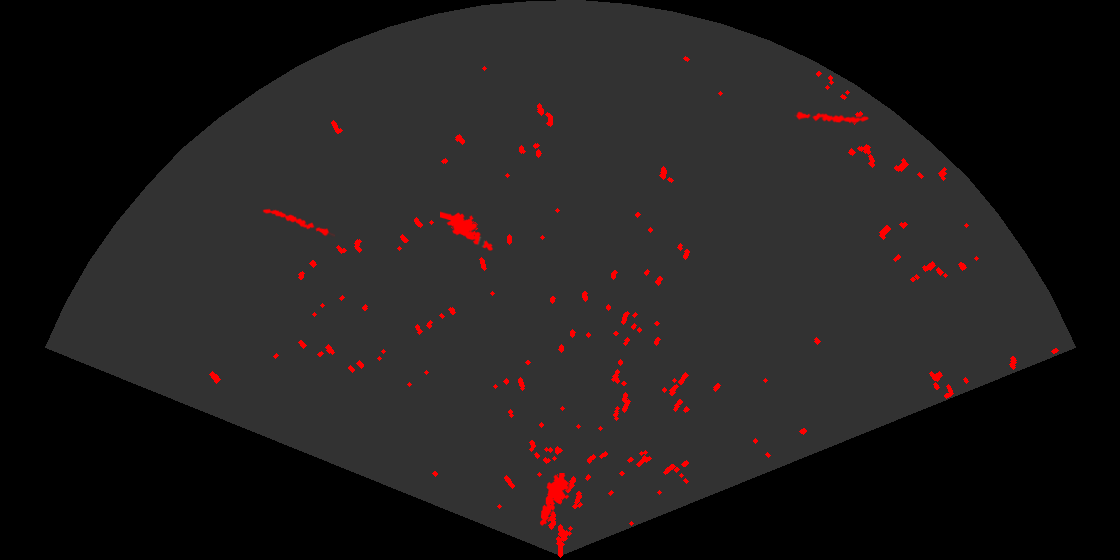chain: (260, 207, 335, 238), (794, 110, 870, 125)
frogman: (440, 210, 495, 252), (538, 473, 571, 527)
